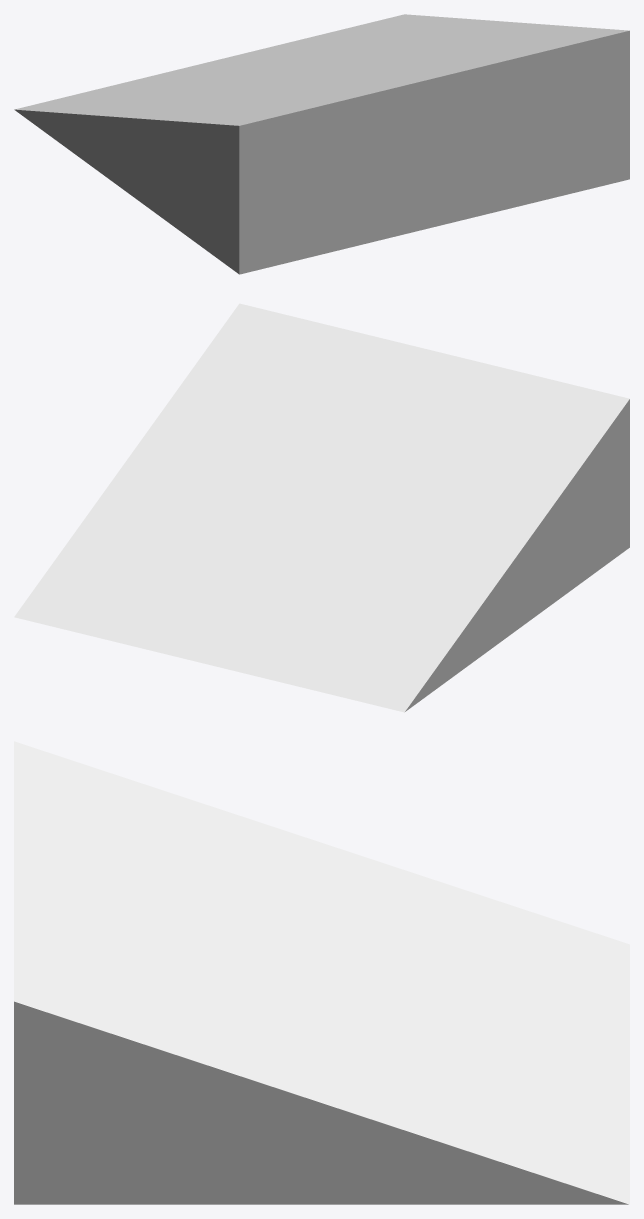
File: Kicker_20deg_20x20x7_28.fbx
3 views of the same model, one above another, from view 1: azimuth 30°, elevation 25°; view 2: azimuth 150°, elevation 25°; view 3: azimuth 270°, elevation 25° (orthographic). The views are drawn at different scales.
Visible parts, largest first — view 1: Kicker_20deg_20x20x7,28; view 2: Kicker_20deg_20x20x7,28; view 3: Kicker_20deg_20x20x7,28.
Boxes of the visible parts, <box> form: Kicker_20deg_20x20x7,28: <box>14,14,629,274</box>; Kicker_20deg_20x20x7,28: <box>14,303,629,712</box>; Kicker_20deg_20x20x7,28: <box>14,741,629,1204</box>.
Bounding box in the file's own units: 20 × 7.28 × 20.
